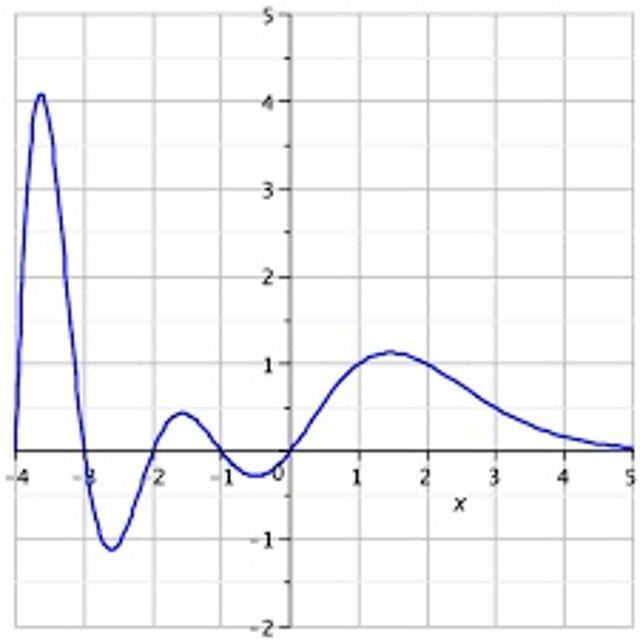axis: (9, 441, 640, 463), (275, 5, 295, 633)
line: (10, 84, 636, 556)
